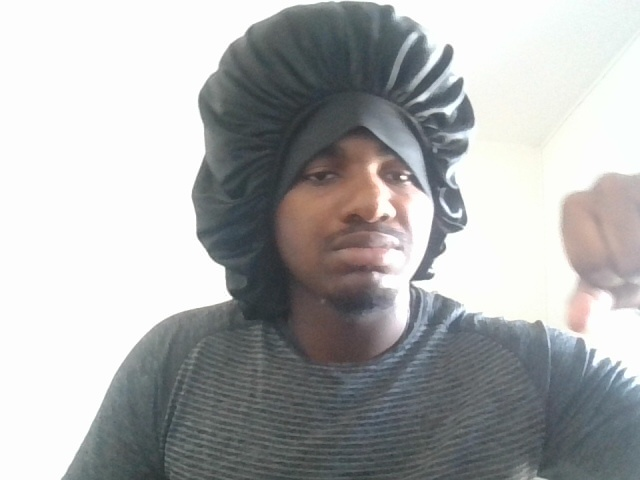Yes: (511, 153, 640, 350)
